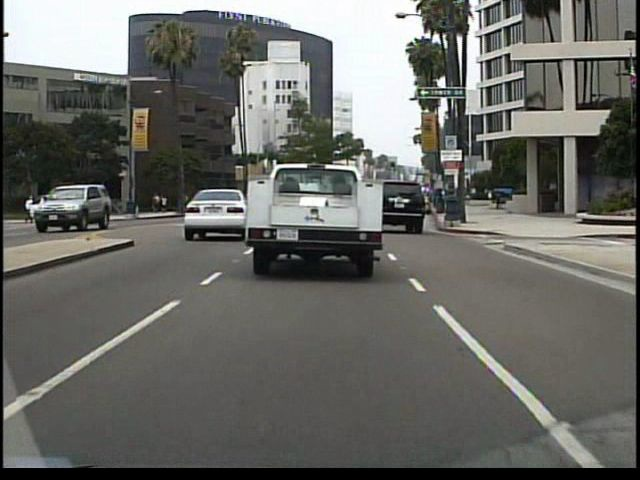person: (19, 192, 39, 228), (86, 188, 102, 224), (121, 185, 137, 215), (74, 191, 88, 223)
